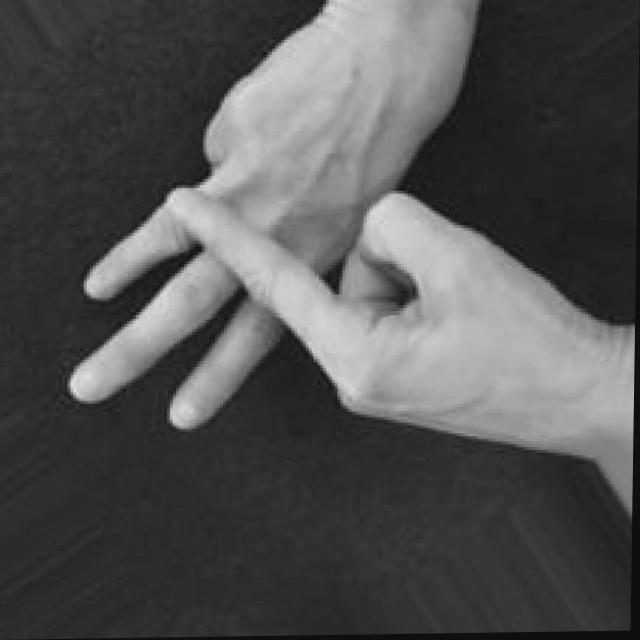E: (70, 0, 560, 460)
